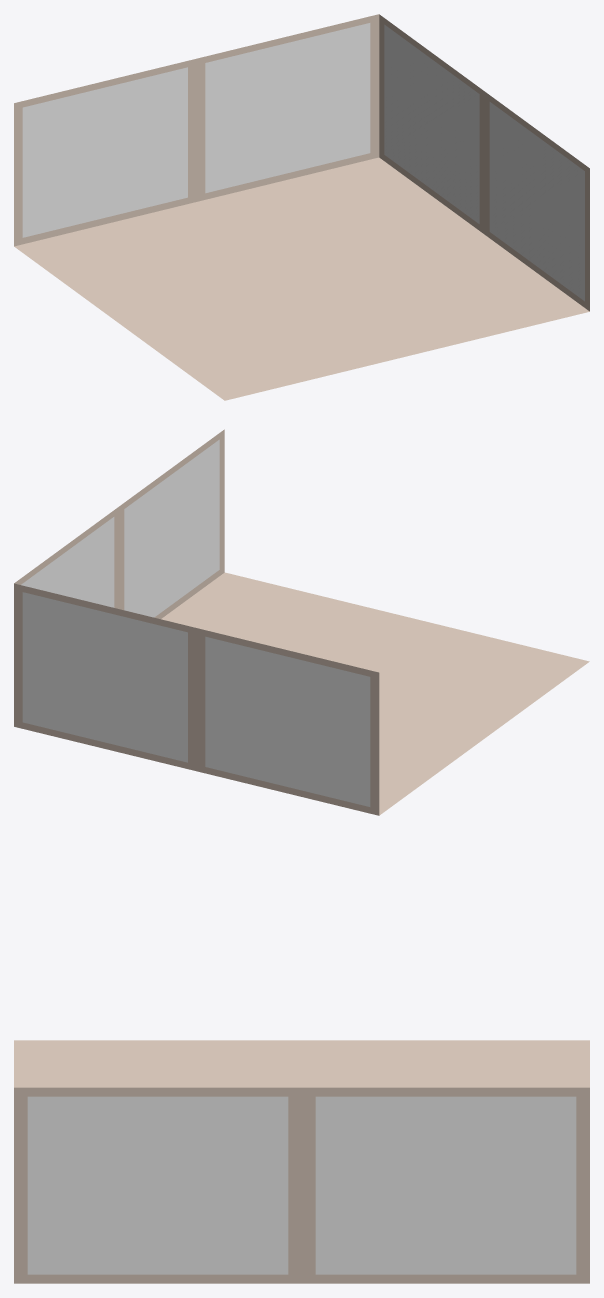
Rendered from Greenhouse.glb.
3 renders of one model, top to bottom at view 1: azimuth 30°, elevation 25°; view 2: azimuth 150°, elevation 25°; view 3: azimuth 270°, elevation 25°, orthographic. The views are drawn at different scales.
Visible parts, largest first — view 1: Greenhouse; view 2: Greenhouse; view 3: Greenhouse.
Boxes of the visible parts, x1,y1,x2,y2 form: Greenhouse: [14, 14, 589, 400]; Greenhouse: [14, 429, 589, 815]; Greenhouse: [14, 1040, 589, 1283].
Bounding box in the file's own units: 8 × 3 × 8.
